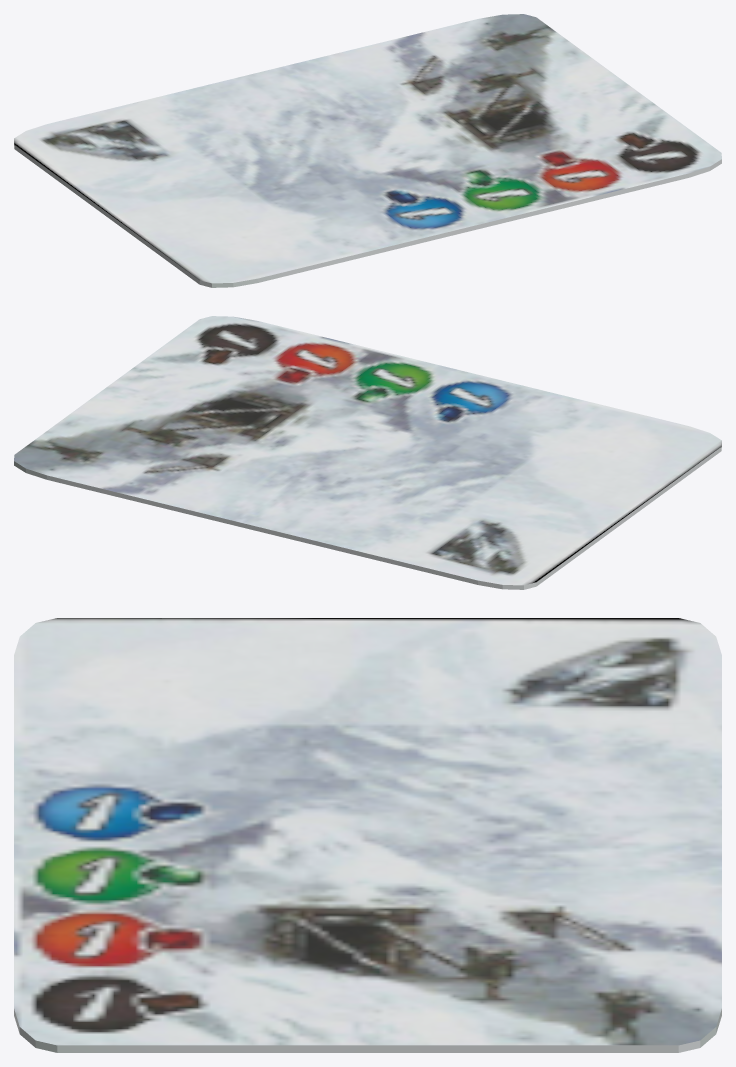
3 views of the same model, one above another, from view 1: azimuth 30°, elevation 25°; view 2: azimuth 150°, elevation 25°; view 3: azimuth 270°, elevation 25° (orthographic). The views are drawn at different scales.
Visible parts, largest first — view 1: Card1; view 2: Card1; view 3: Card1.
Boxes of the visible parts, left/top/right/bottom form: Card1: left=14, top=14, right=721, bottom=287; Card1: left=14, top=316, right=721, bottom=589; Card1: left=14, top=618, right=721, bottom=1052.
Size of the model in its own units: 700 by 5.74 by 490.
